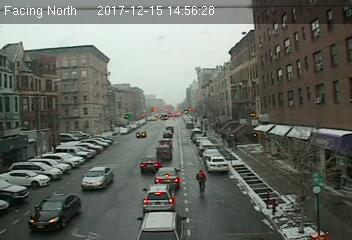bicycle: (196, 169, 207, 198)
car: (28, 193, 80, 229), (135, 212, 187, 240), (142, 184, 178, 211), (80, 165, 114, 189), (153, 166, 180, 185), (139, 154, 162, 171), (206, 156, 229, 172), (155, 146, 173, 159)
